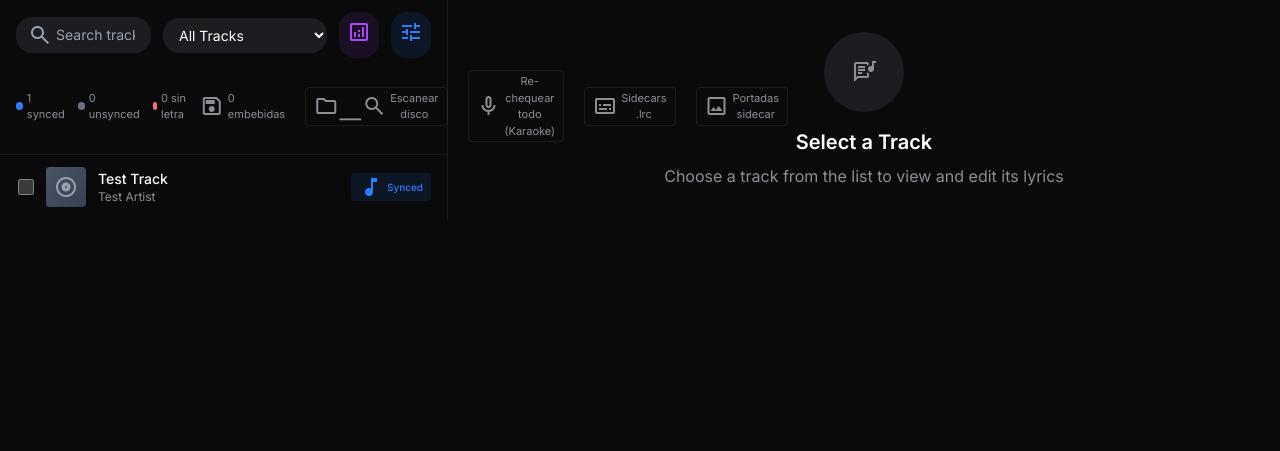
Scenario: LyricsView (fully wired tab) › loads and renders parsed synced lines when a synced track is selected
Click the element with class "cursor-pointer": (66, 187) 0,155 -> 447,219
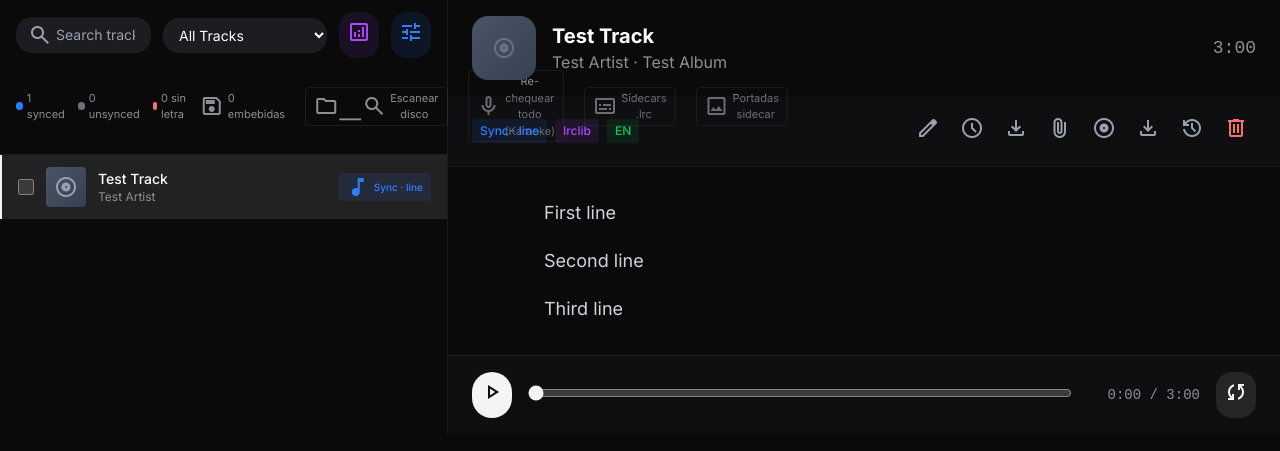
Expected: the text "00:05.50" is not shown
Result: the text "Second line" is shown at 544,247 -> 644,275
When toggle button is clicked, timestamps are rendered
Click the button with test id "toggle-timestamps": (972, 131) 952,108 -> 992,154
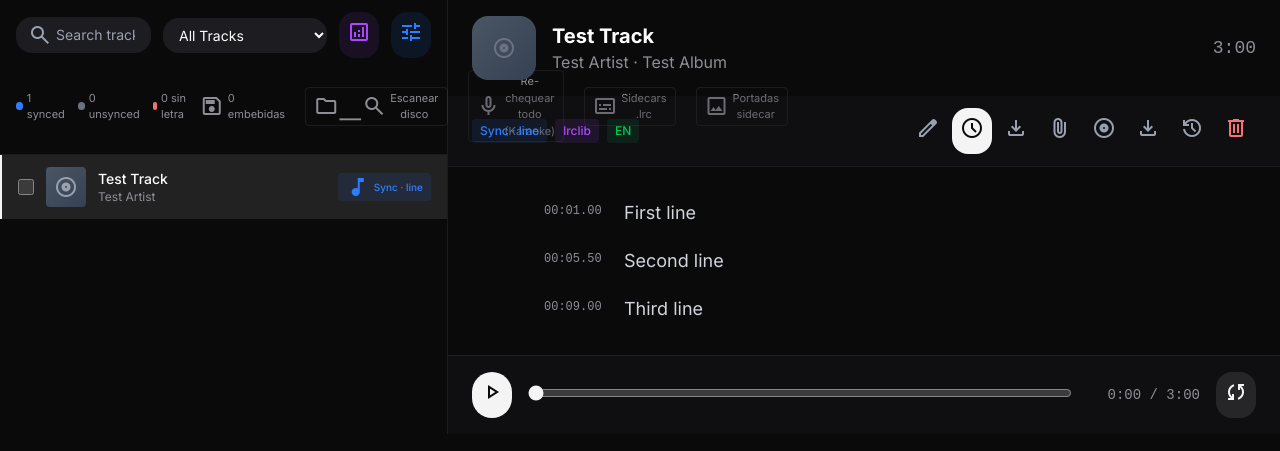
Result: the text "00:05.50" is shown at 544,247 -> 608,267
